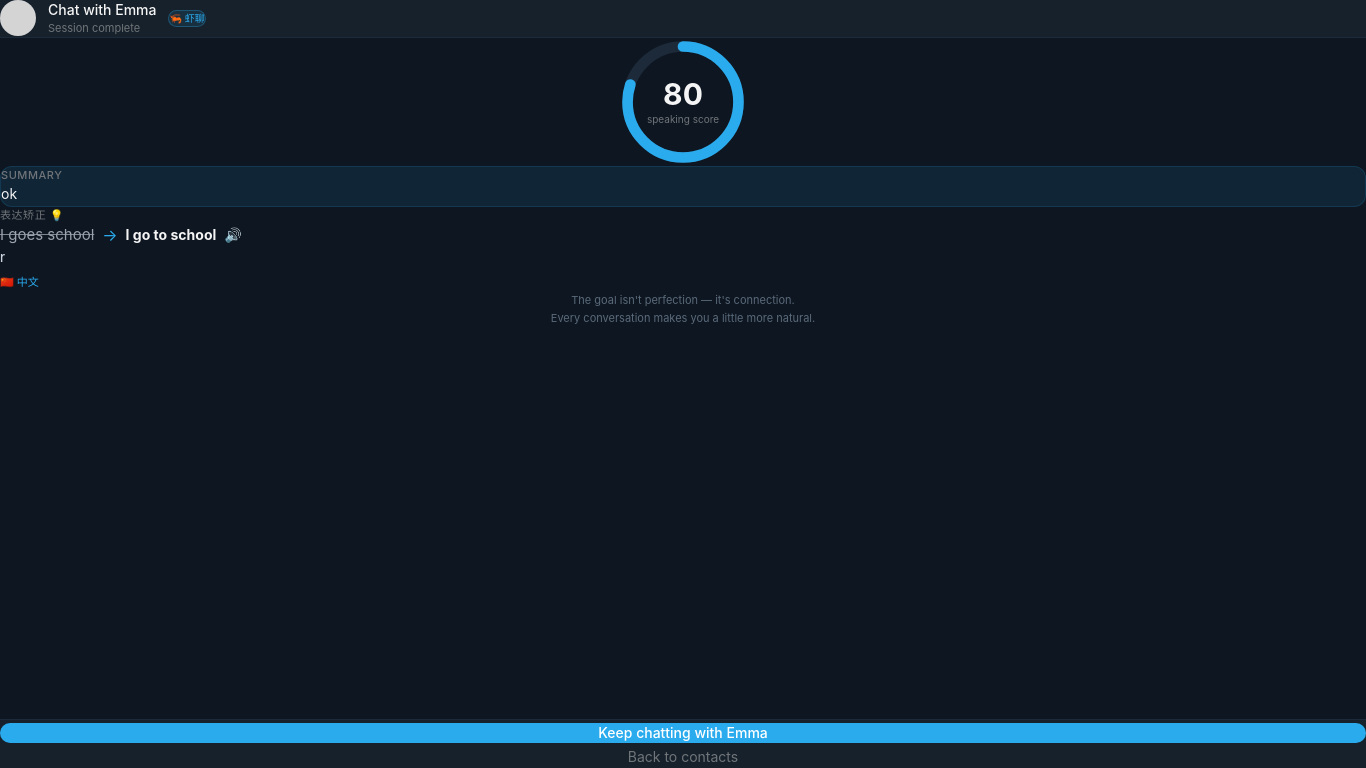
Test case: EndReview — 点词释义 (T05) › clicking a word without a definition degrades to 暂无释义 (B02 降级)
Click the button "go".
click(142, 235)  # box [133, 225, 150, 245]
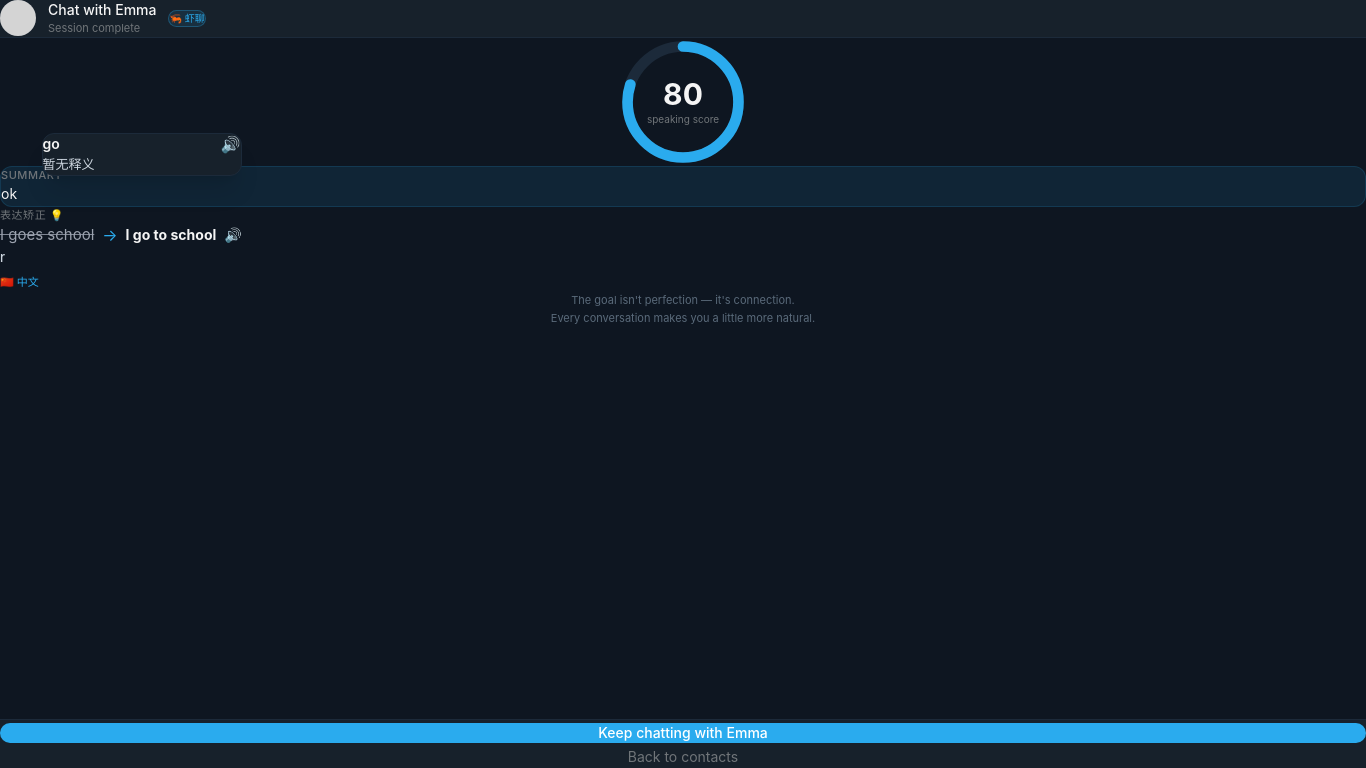
Check: the text "暂无释义" is shown, box [43, 156, 95, 172]
